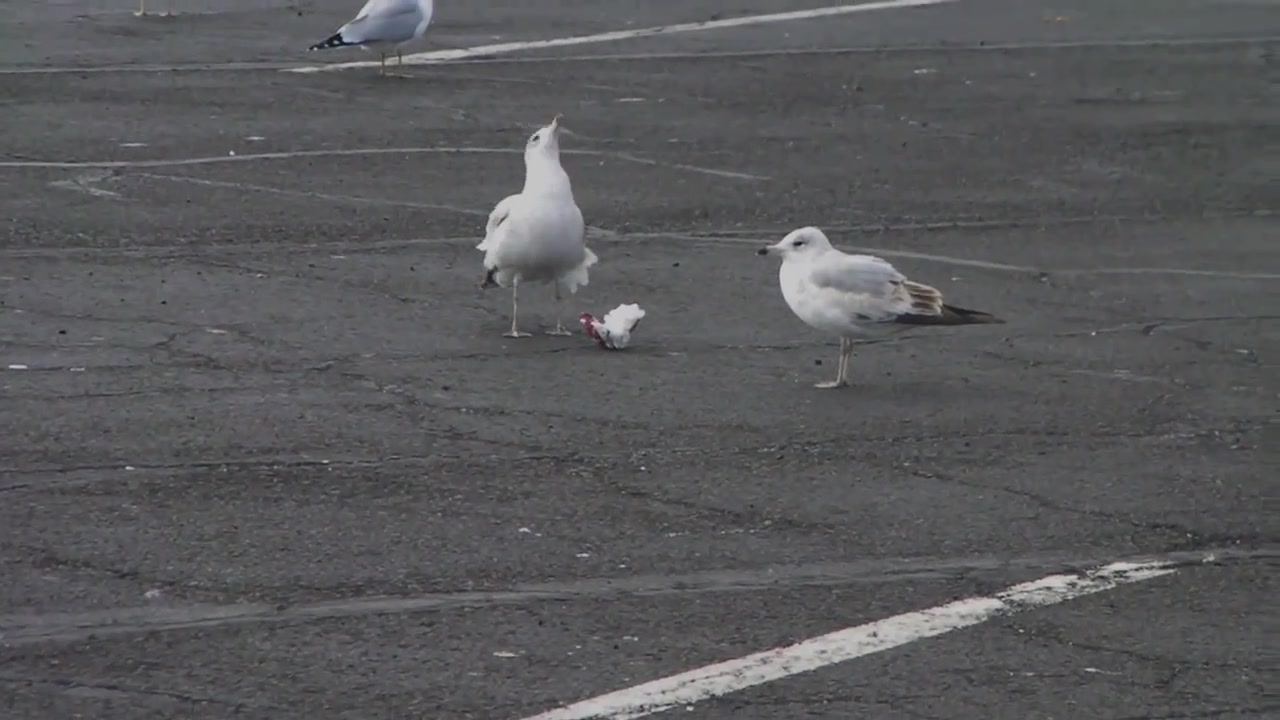bird: (753, 225, 1010, 391), (482, 109, 600, 344), (302, 1, 439, 80)
